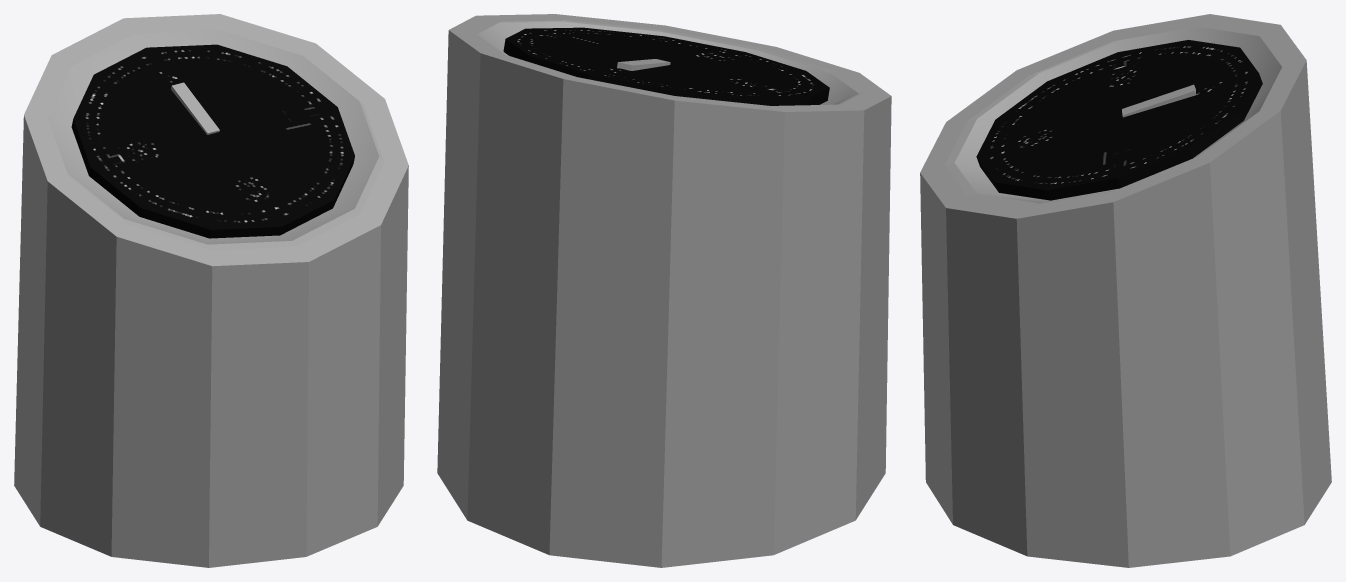
The model's file is compass.fbx.
3 renders of one model, left to right at view 1: azimuth 30°, elevation 25°; view 2: azimuth 150°, elevation 25°; view 3: azimuth 270°, elevation 25°, orthographic. The views are drawn at different scales.
Visible parts, largest first — view 1: pCylinder1, pCylinder2, pCube1; view 2: pCylinder1, pCylinder2; view 3: pCylinder1, pCylinder2, pCube1.
Boxes of the visible parts, x1=… form: pCylinder1: x1=14, y1=14, x2=408, y2=567; pCylinder2: x1=71, y1=44, x2=354, y2=238; pCube1: x1=171, y1=82, x2=219, y2=134; pCylinder1: x1=437, y1=14, x2=891, y2=567; pCylinder2: x1=503, y1=27, x2=829, y2=105; pCylinder1: x1=920, y1=14, x2=1331, y2=567; pCylinder2: x1=976, y1=40, x2=1262, y2=200; pCube1: x1=1122, y1=84, x2=1195, y2=117.
Bounding box in the file's own units: 0.8 × 0.9175 × 0.8114.
